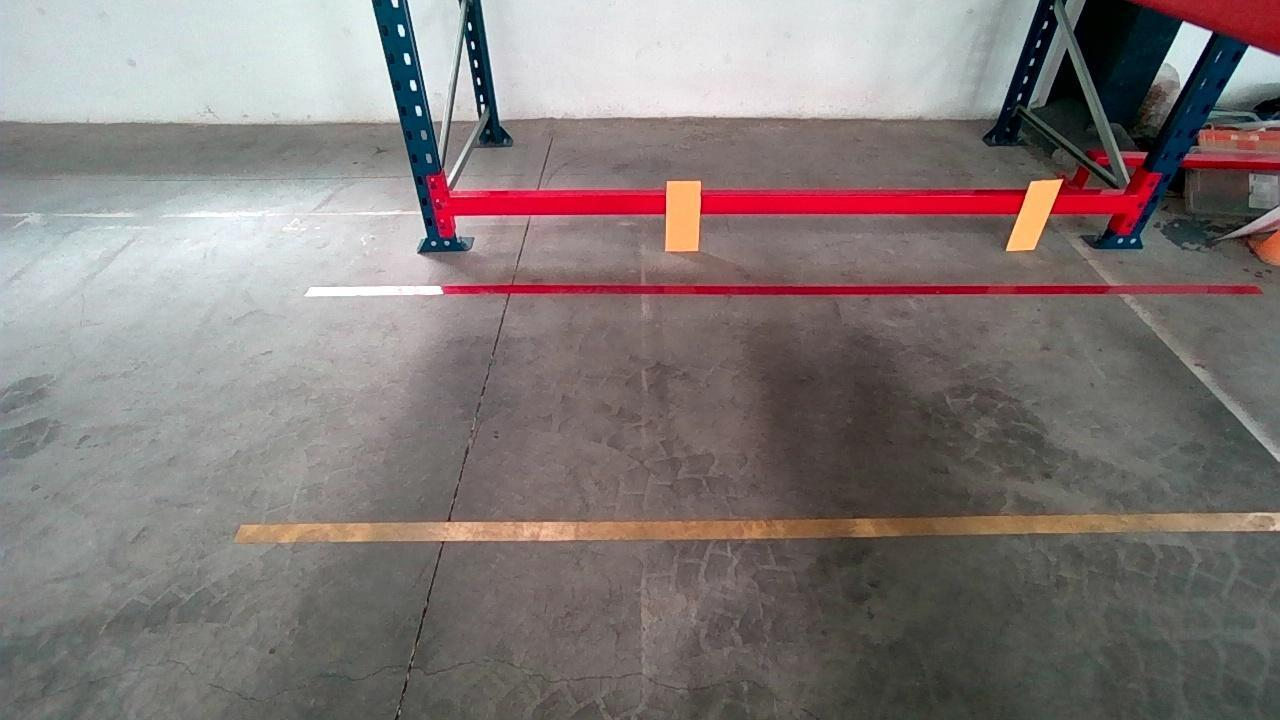h_rack: (447, 195, 1130, 216)
orange_strip: (1007, 179, 1064, 249), (666, 179, 701, 249)
red_line: (301, 284, 1262, 297)
yellow_line: (234, 511, 1280, 543)
